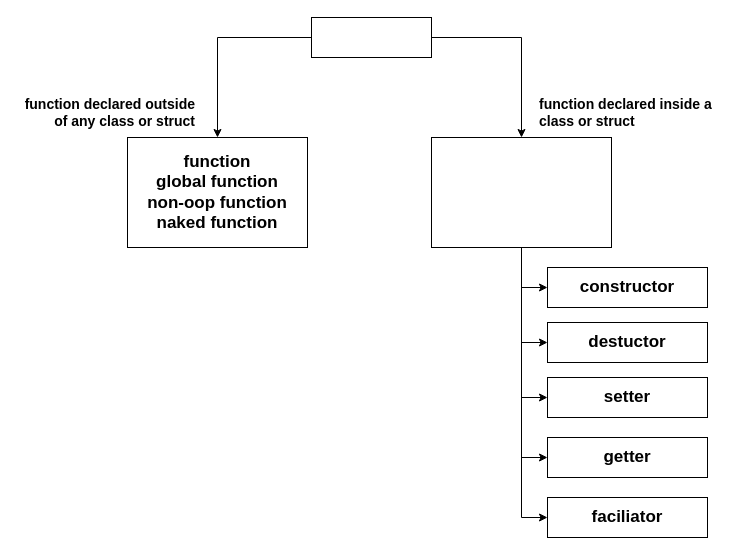
Some shapes in this 734 by 555 pixel diagram are drawn without their labels. The box of each missing label's shape, as (x1, y1, x2, y2) in pixels:
function: (310, 16, 432, 58)
method oop function: (430, 136, 612, 248)
